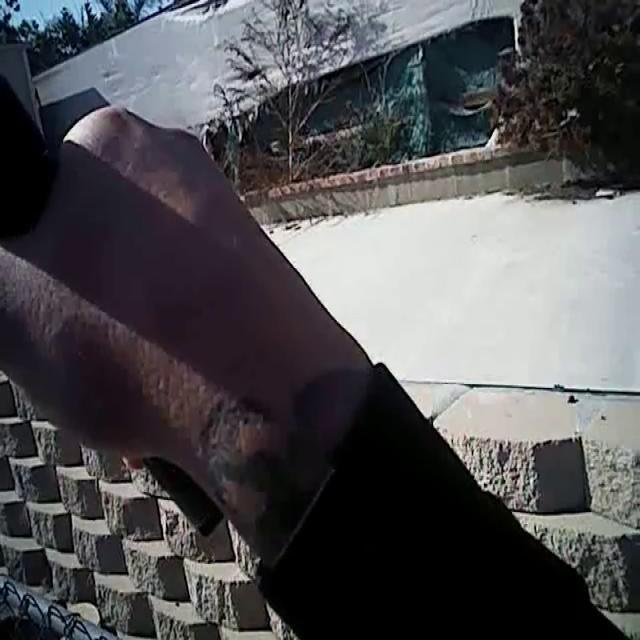gun: (0, 31, 248, 568)
